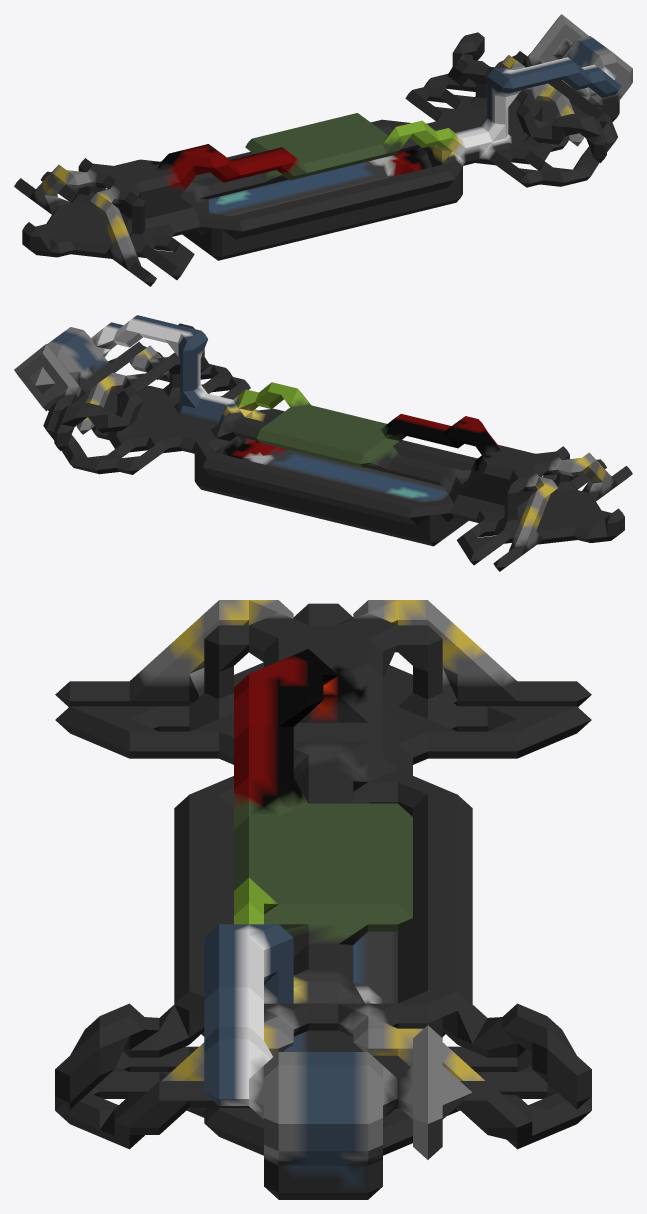
File: rccar_chassis.fbx
3 views of the same model, one above another, from view 1: azimuth 30°, elevation 25°; view 2: azimuth 150°, elevation 25°; view 3: azimuth 270°, elevation 25° (orthographic). The views are drawn at different scales.
Visible parts, largest first — view 1: rccar_chassis; view 2: rccar_chassis; view 3: rccar_chassis.
Boxes of the visible parts, x1,y1,x2,y2 form: rccar_chassis: [14, 14, 632, 286]; rccar_chassis: [14, 315, 632, 571]; rccar_chassis: [55, 600, 591, 1199].
Bounding box in the file's own units: 1772 × 315 × 709.
